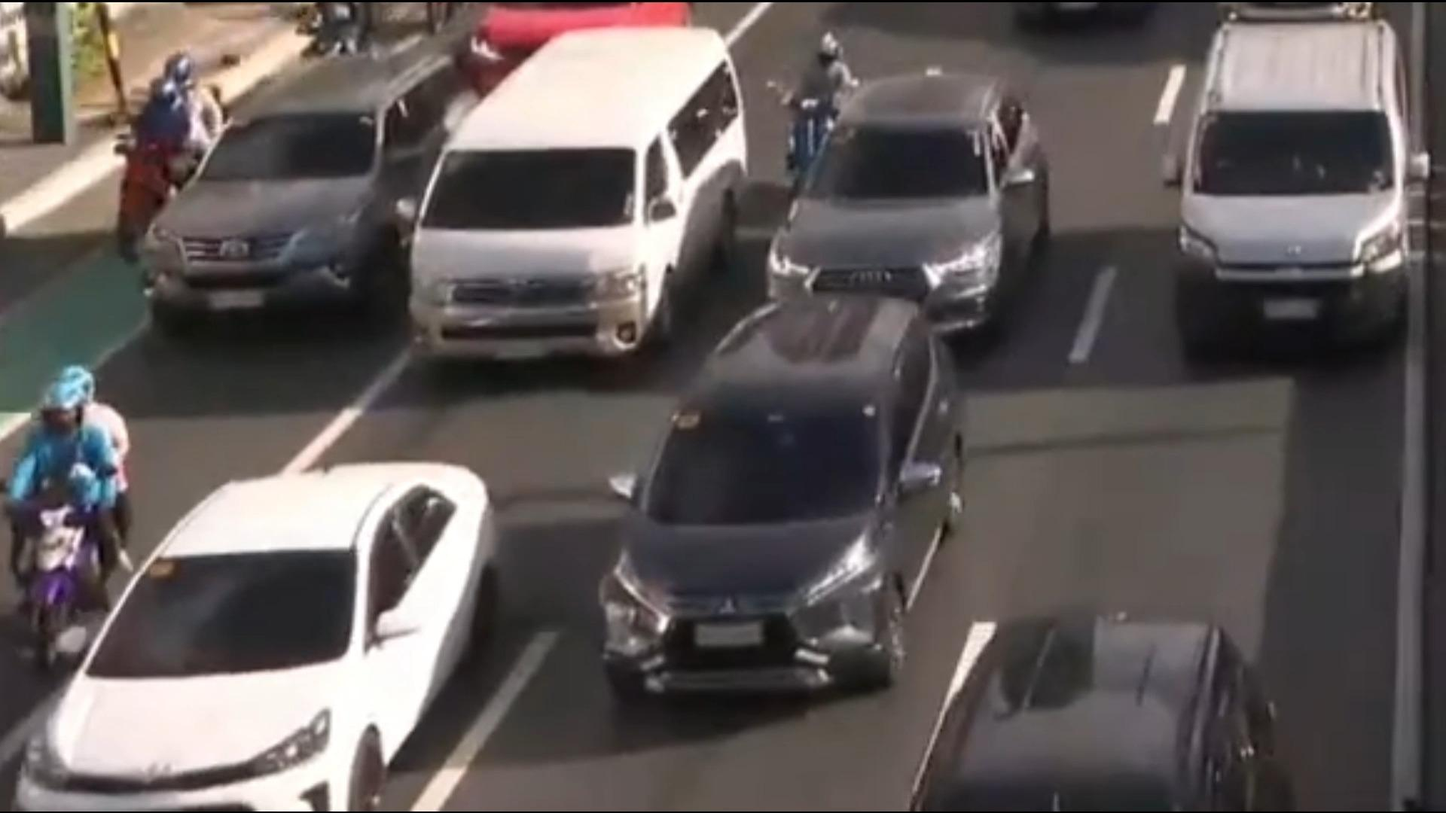Motorcycle: (0, 369, 170, 667), (105, 51, 238, 268), (760, 21, 880, 191), (292, 4, 390, 59)
SUV: (555, 315, 1015, 732), (117, 19, 492, 355), (728, 64, 1083, 340), (875, 607, 1290, 813)
Sedan: (0, 431, 524, 813)
Van: (387, 30, 754, 369), (1160, 17, 1435, 382)
